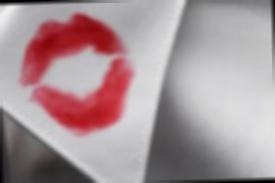lipstick: (11, 16, 136, 131), (22, 14, 123, 54), (32, 84, 85, 125), (64, 93, 118, 129), (13, 48, 51, 84), (100, 67, 135, 96)
